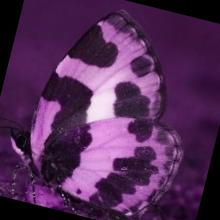butterfly: (11, 11, 184, 218)
